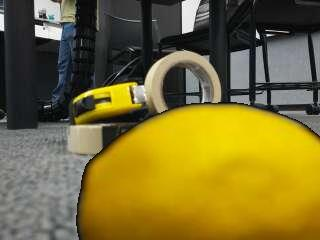lemon: (78, 104, 320, 240)
